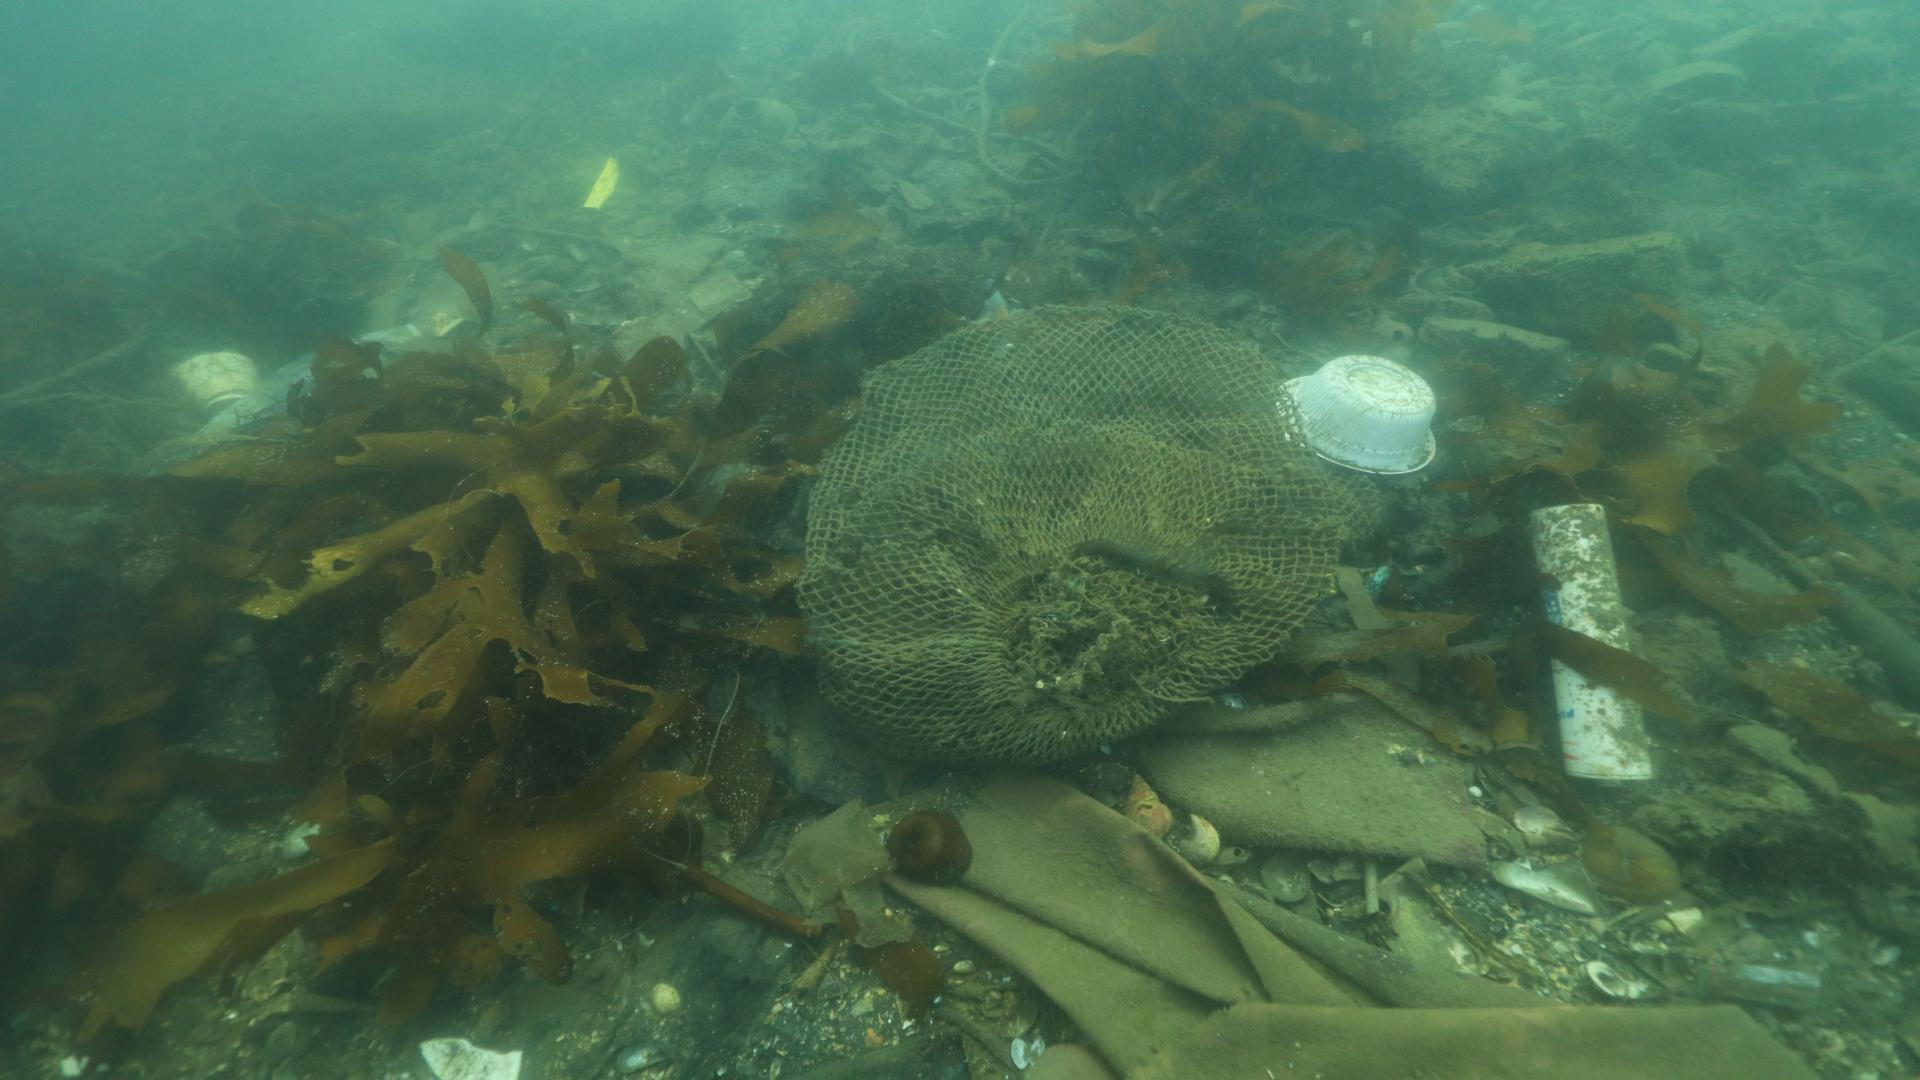fish net: (793, 301, 1382, 761)
